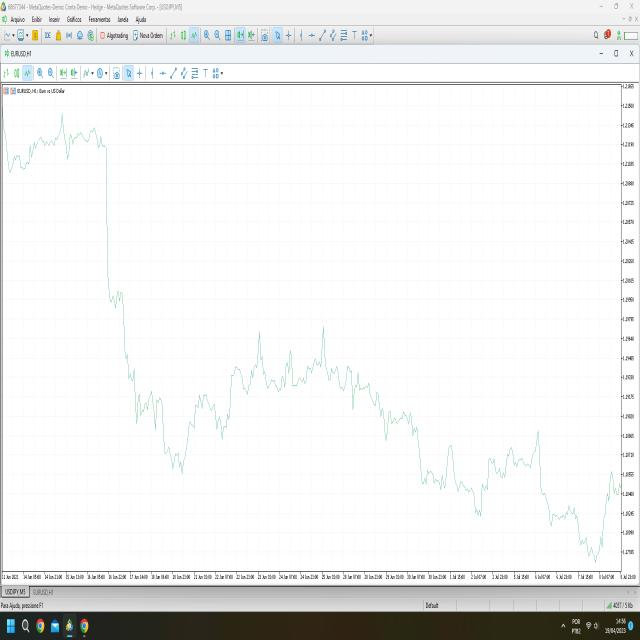bandeira_baixa: (119, 287, 164, 433), (101, 132, 128, 323), (534, 428, 579, 528)
